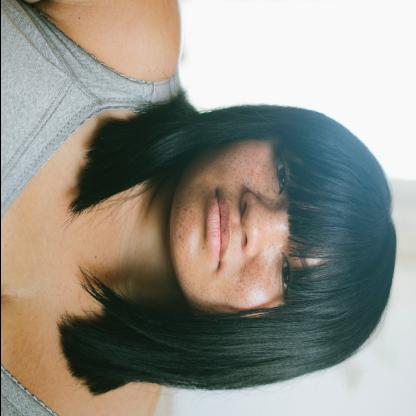Eye: (272, 247, 296, 299), (270, 144, 292, 196)
Mouth: (200, 183, 234, 275)
Nose: (234, 182, 276, 258)
